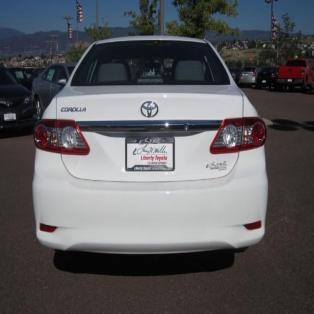Auto: (32, 31, 270, 259)
